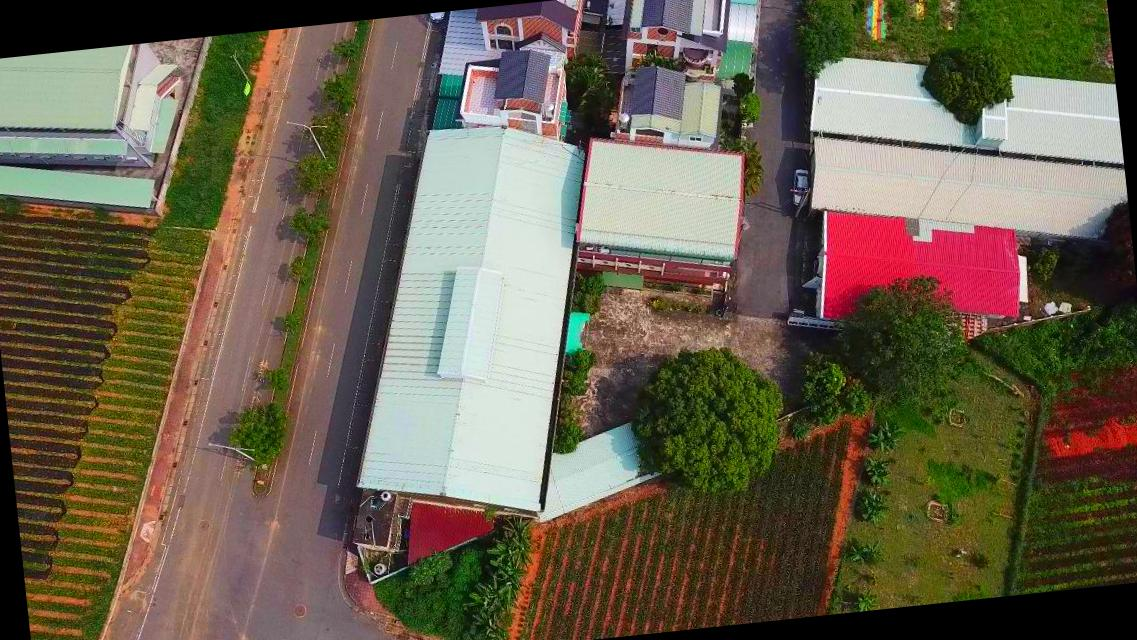vehicle: (788, 166, 812, 207)
